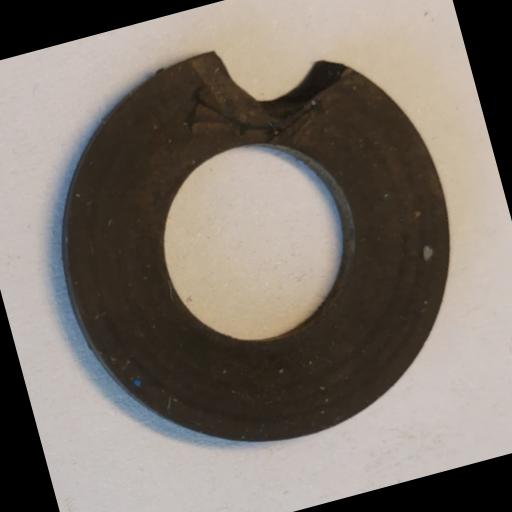defect: (212, 18, 356, 134)
